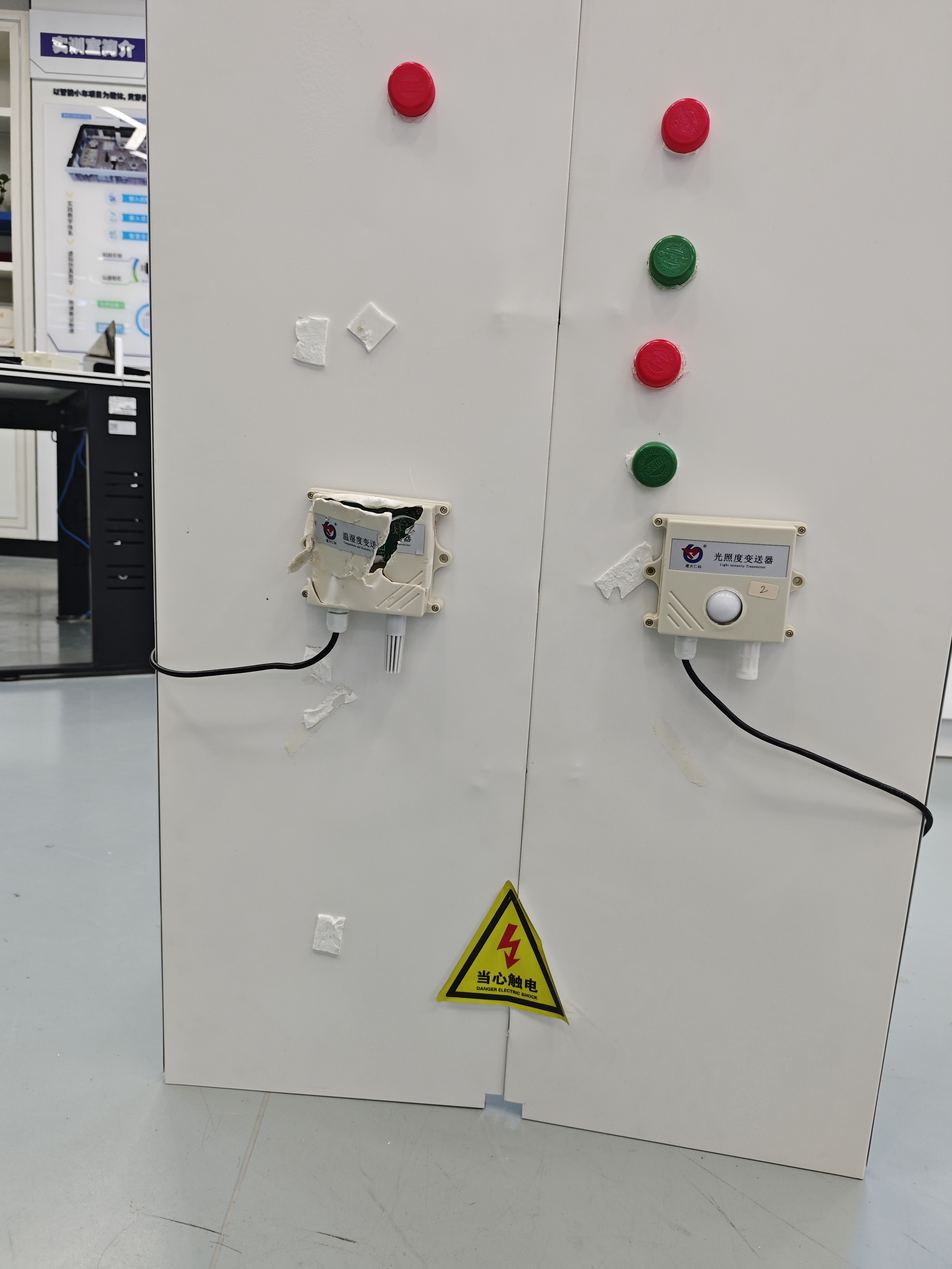red_warning: (617, 325, 734, 414), (643, 73, 719, 168), (378, 47, 452, 118)
sensor_damage: (269, 469, 541, 708)
